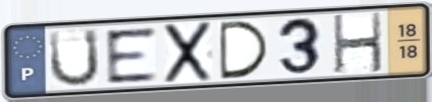3: (275, 15, 326, 79)
D: (216, 19, 272, 82)
E: (102, 24, 160, 86)
H: (330, 10, 386, 76)
U: (47, 27, 102, 90)
X: (162, 19, 214, 86)
